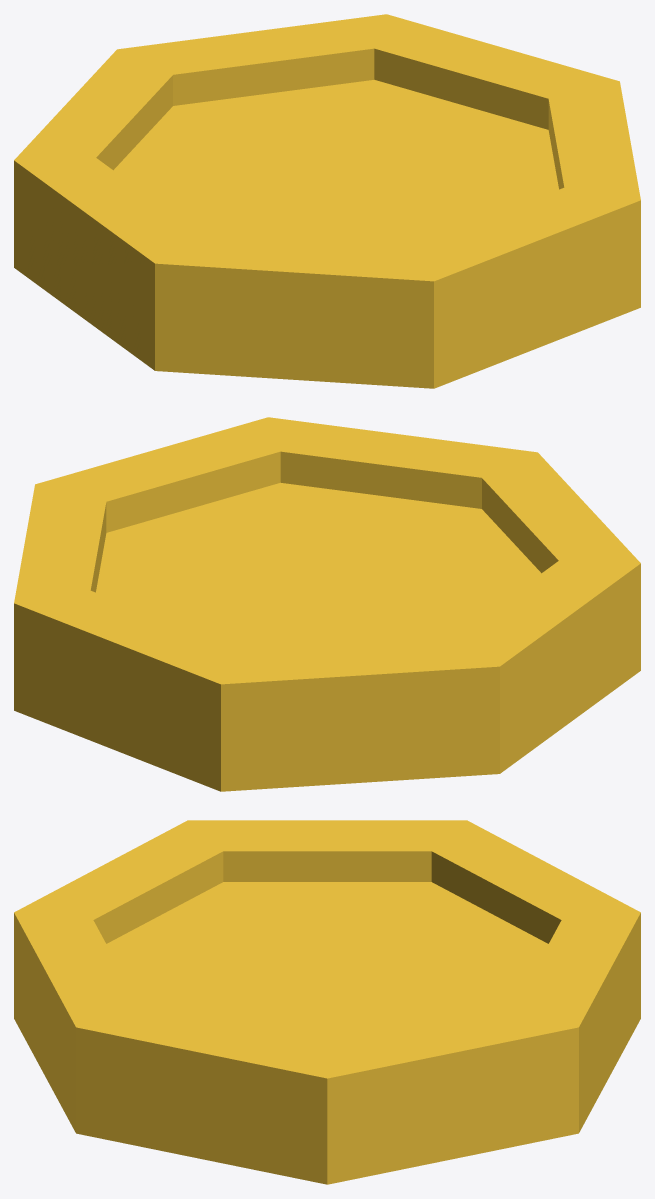
The model's file is GoldCoin.fbx.
3 renders of one model, top to bottom at view 1: azimuth 30°, elevation 25°; view 2: azimuth 150°, elevation 25°; view 3: azimuth 270°, elevation 25°, orthographic.
Parts seen in each view (by area): view 1: Сoin; view 2: Сoin; view 3: Сoin.
Boxes of the visible parts, <box> form: Сoin: <box>14,14,640,388</box>; Сoin: <box>14,417,640,791</box>; Сoin: <box>14,820,640,1184</box>.
Size of the model in its own units: 0.564 by 0.1081 by 0.5785.
